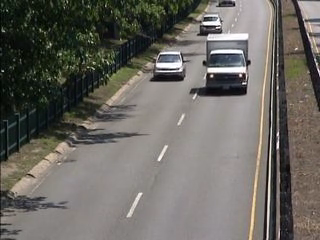car: (150, 50, 190, 86), (197, 12, 225, 34)
truck: (202, 31, 254, 96)
